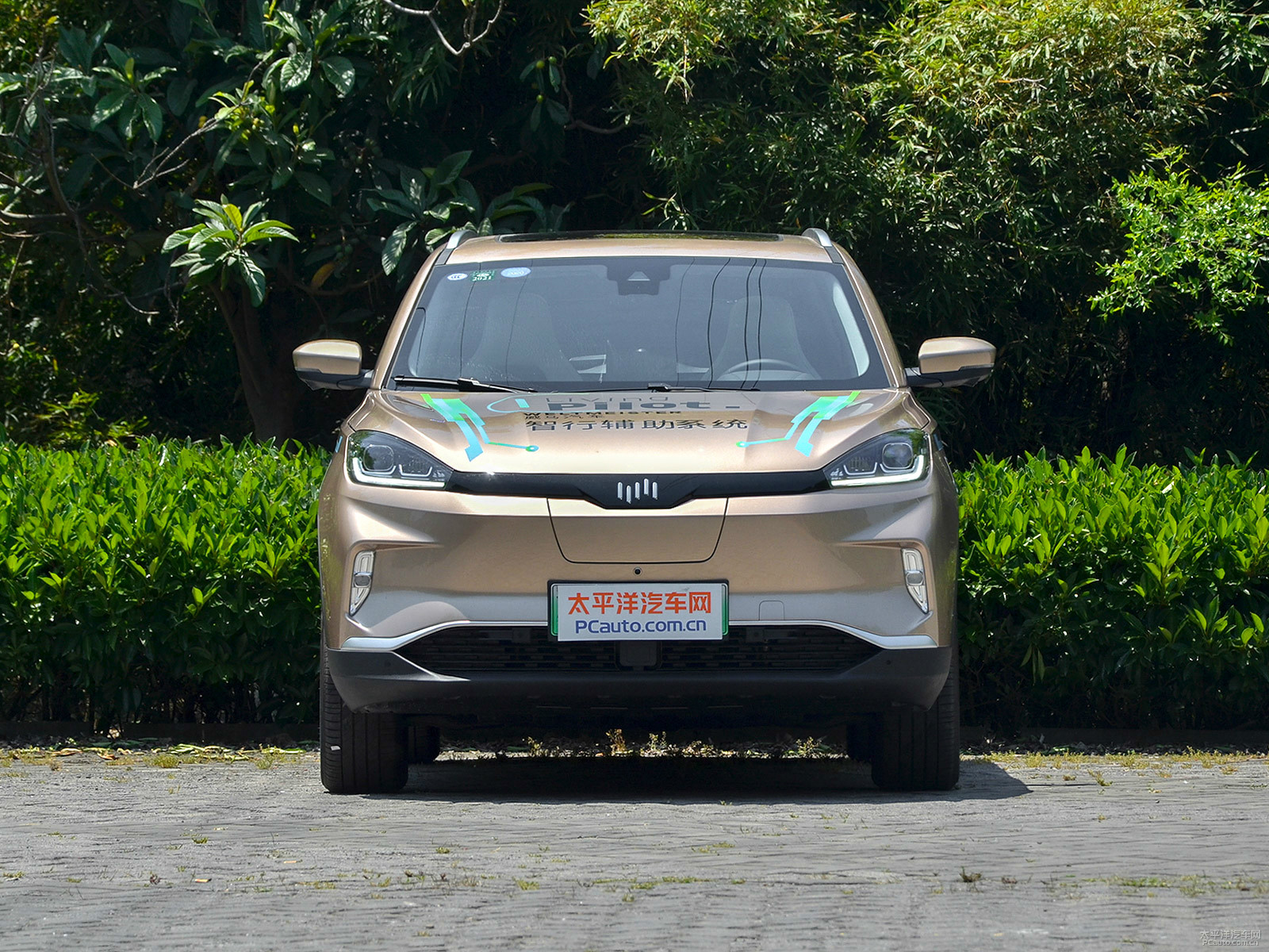WELTMEISTER: (618, 479, 658, 503)
